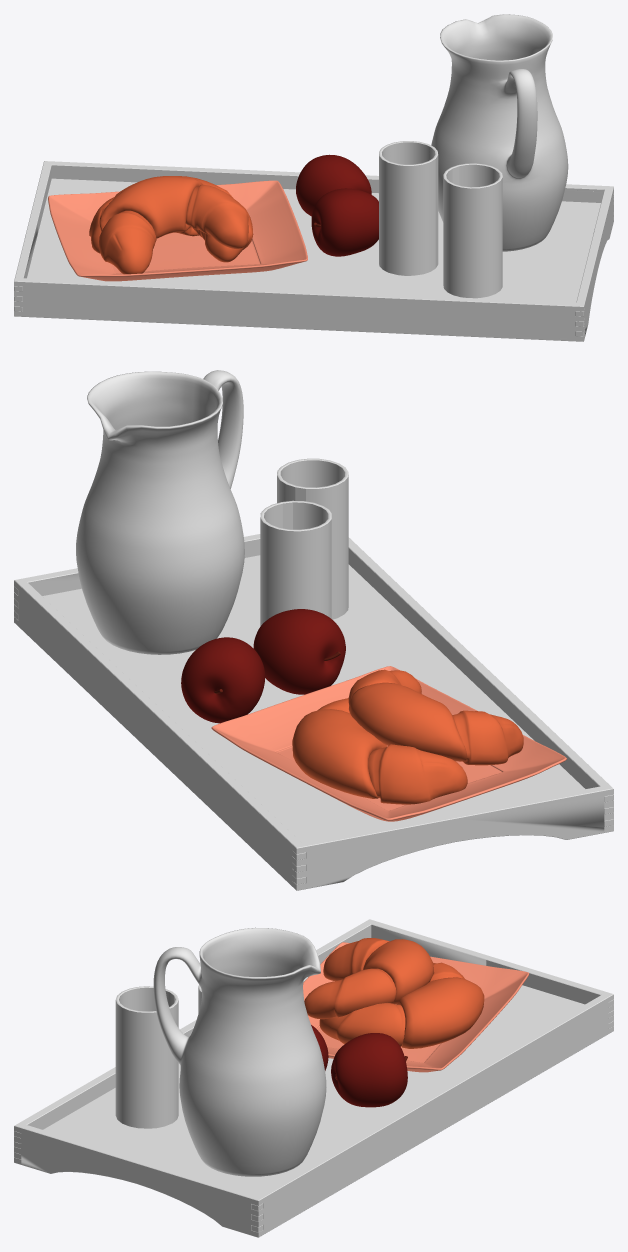
File: breakfast_set.fbx
3 renders of one model, top to bottom at view 1: azimuth 30°, elevation 25°; view 2: azimuth 150°, elevation 25°; view 3: azimuth 270°, elevation 25°, orthographic. The views are drawn at different scales.
Parts seen in each view (by area): view 1: breakfast_set; view 2: breakfast_set; view 3: breakfast_set.
Part boxes in pixels (bbox=[...]): breakfast_set: bbox=[14, 14, 613, 341]; breakfast_set: bbox=[14, 370, 613, 890]; breakfast_set: bbox=[14, 919, 613, 1237].
Bounding box in the file's own units: 2742 × 1021 × 2467.
